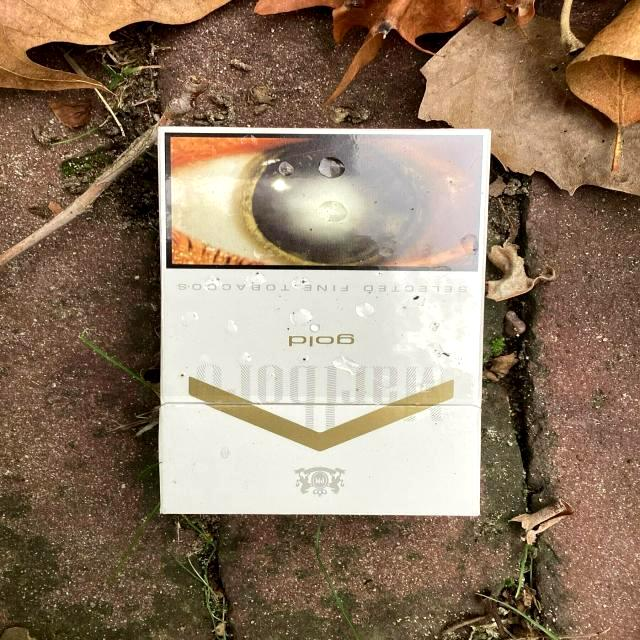Paper: (152, 120, 496, 518)
